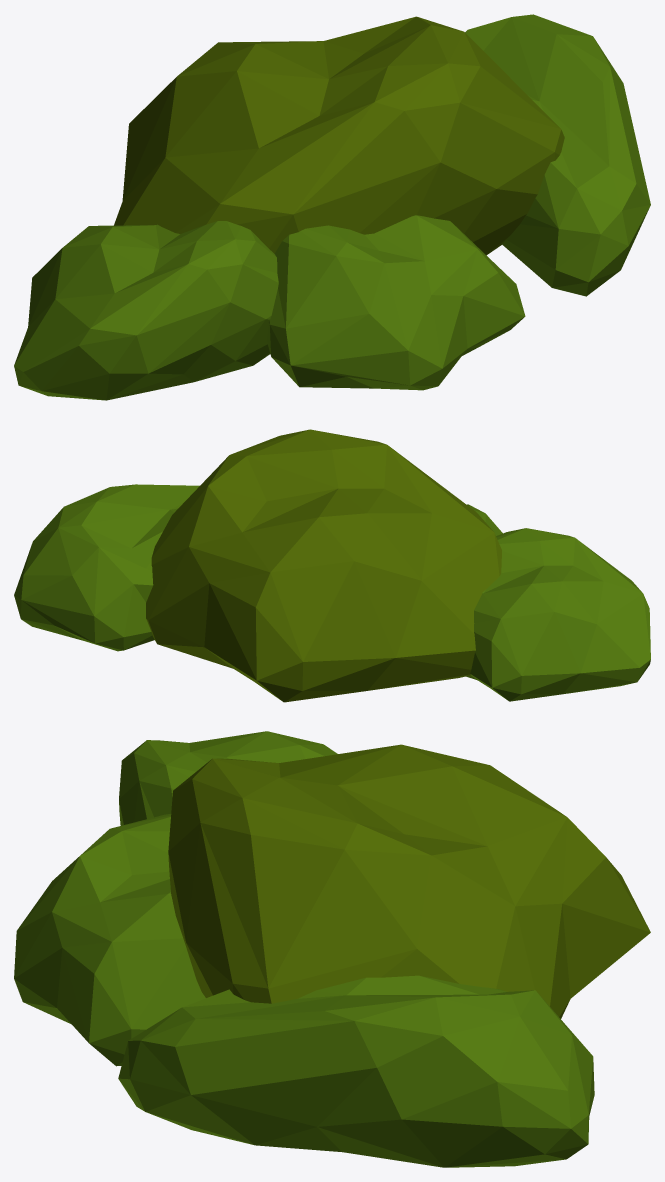
Rendered from LowPolyBush3.fbx.
3 renders of one model, top to bottom at view 1: azimuth 30°, elevation 25°; view 2: azimuth 150°, elevation 25°; view 3: azimuth 270°, elevation 25°, orthographic. The views are drawn at different scales.
Visible parts, largest first — view 1: Icosphere.005, Icosphere.006, Icosphere.007, Icosphere.008; view 2: Icosphere.005, Icosphere.006, Icosphere.008; view 3: Icosphere.005, Icosphere.008, Icosphere.007, Icosphere.006.
Part boxes in pixels (bbox=[...]): Icosphere.005: bbox=[114, 16, 564, 255]; Icosphere.006: bbox=[14, 221, 278, 400]; Icosphere.007: bbox=[266, 215, 525, 390]; Icosphere.008: bbox=[465, 14, 650, 296]; Icosphere.005: bbox=[146, 429, 501, 702]; Icosphere.006: bbox=[466, 528, 650, 701]; Icosphere.008: bbox=[14, 484, 199, 651]; Icosphere.005: bbox=[168, 744, 650, 1018]; Icosphere.008: bbox=[118, 975, 594, 1167]; Icosphere.007: bbox=[14, 814, 205, 1066]; Icosphere.006: bbox=[119, 731, 337, 825].
Bounding box in the file's own units: 4.88 × 3.4 × 1.71.
